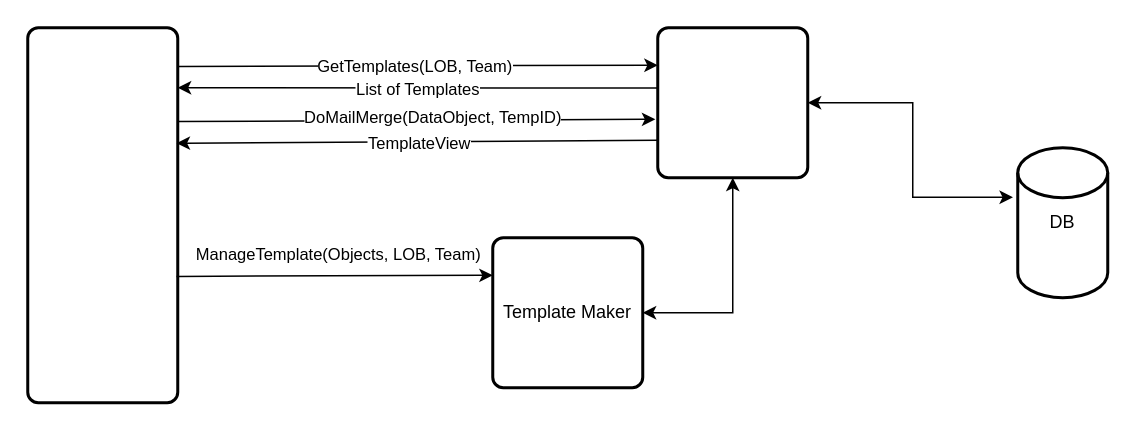
Image size: 1134x429. Some labels were removed from this diagram. Each missing label, with the centre of its shape:
CRG/CasePrep: (102,215)
Template Service: (732,102)
